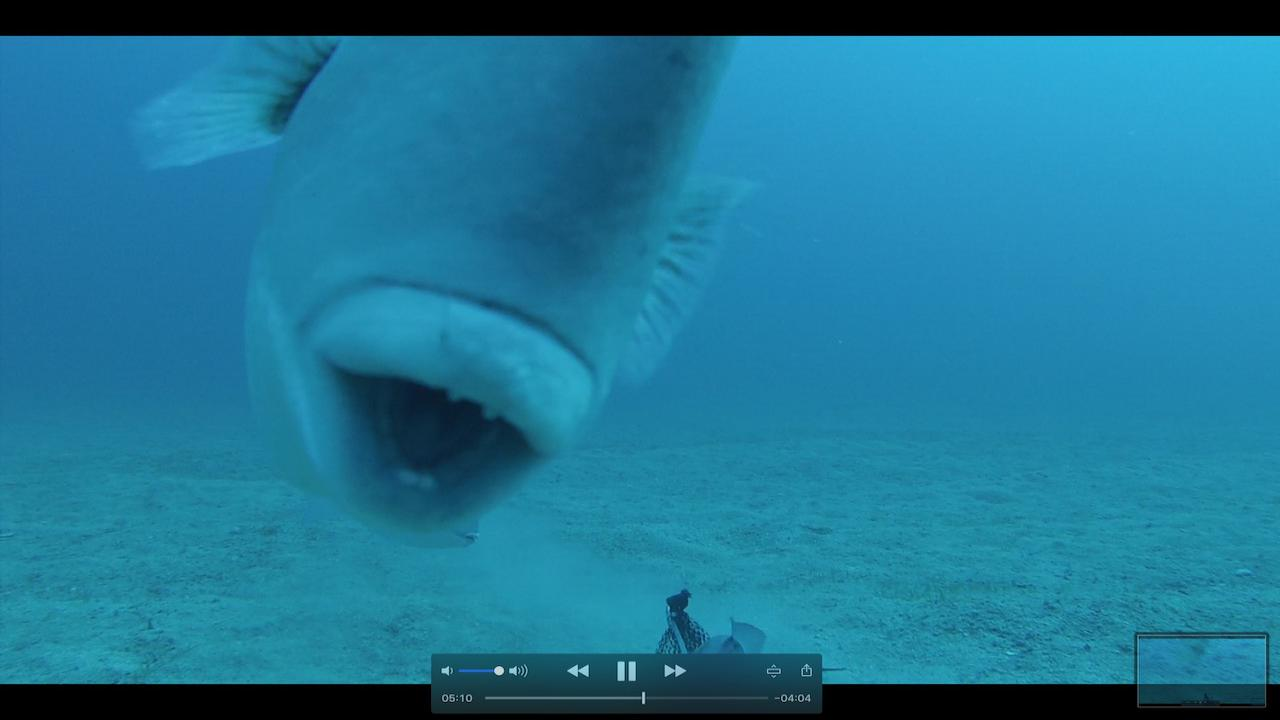balistes: (128, 36, 757, 541)
